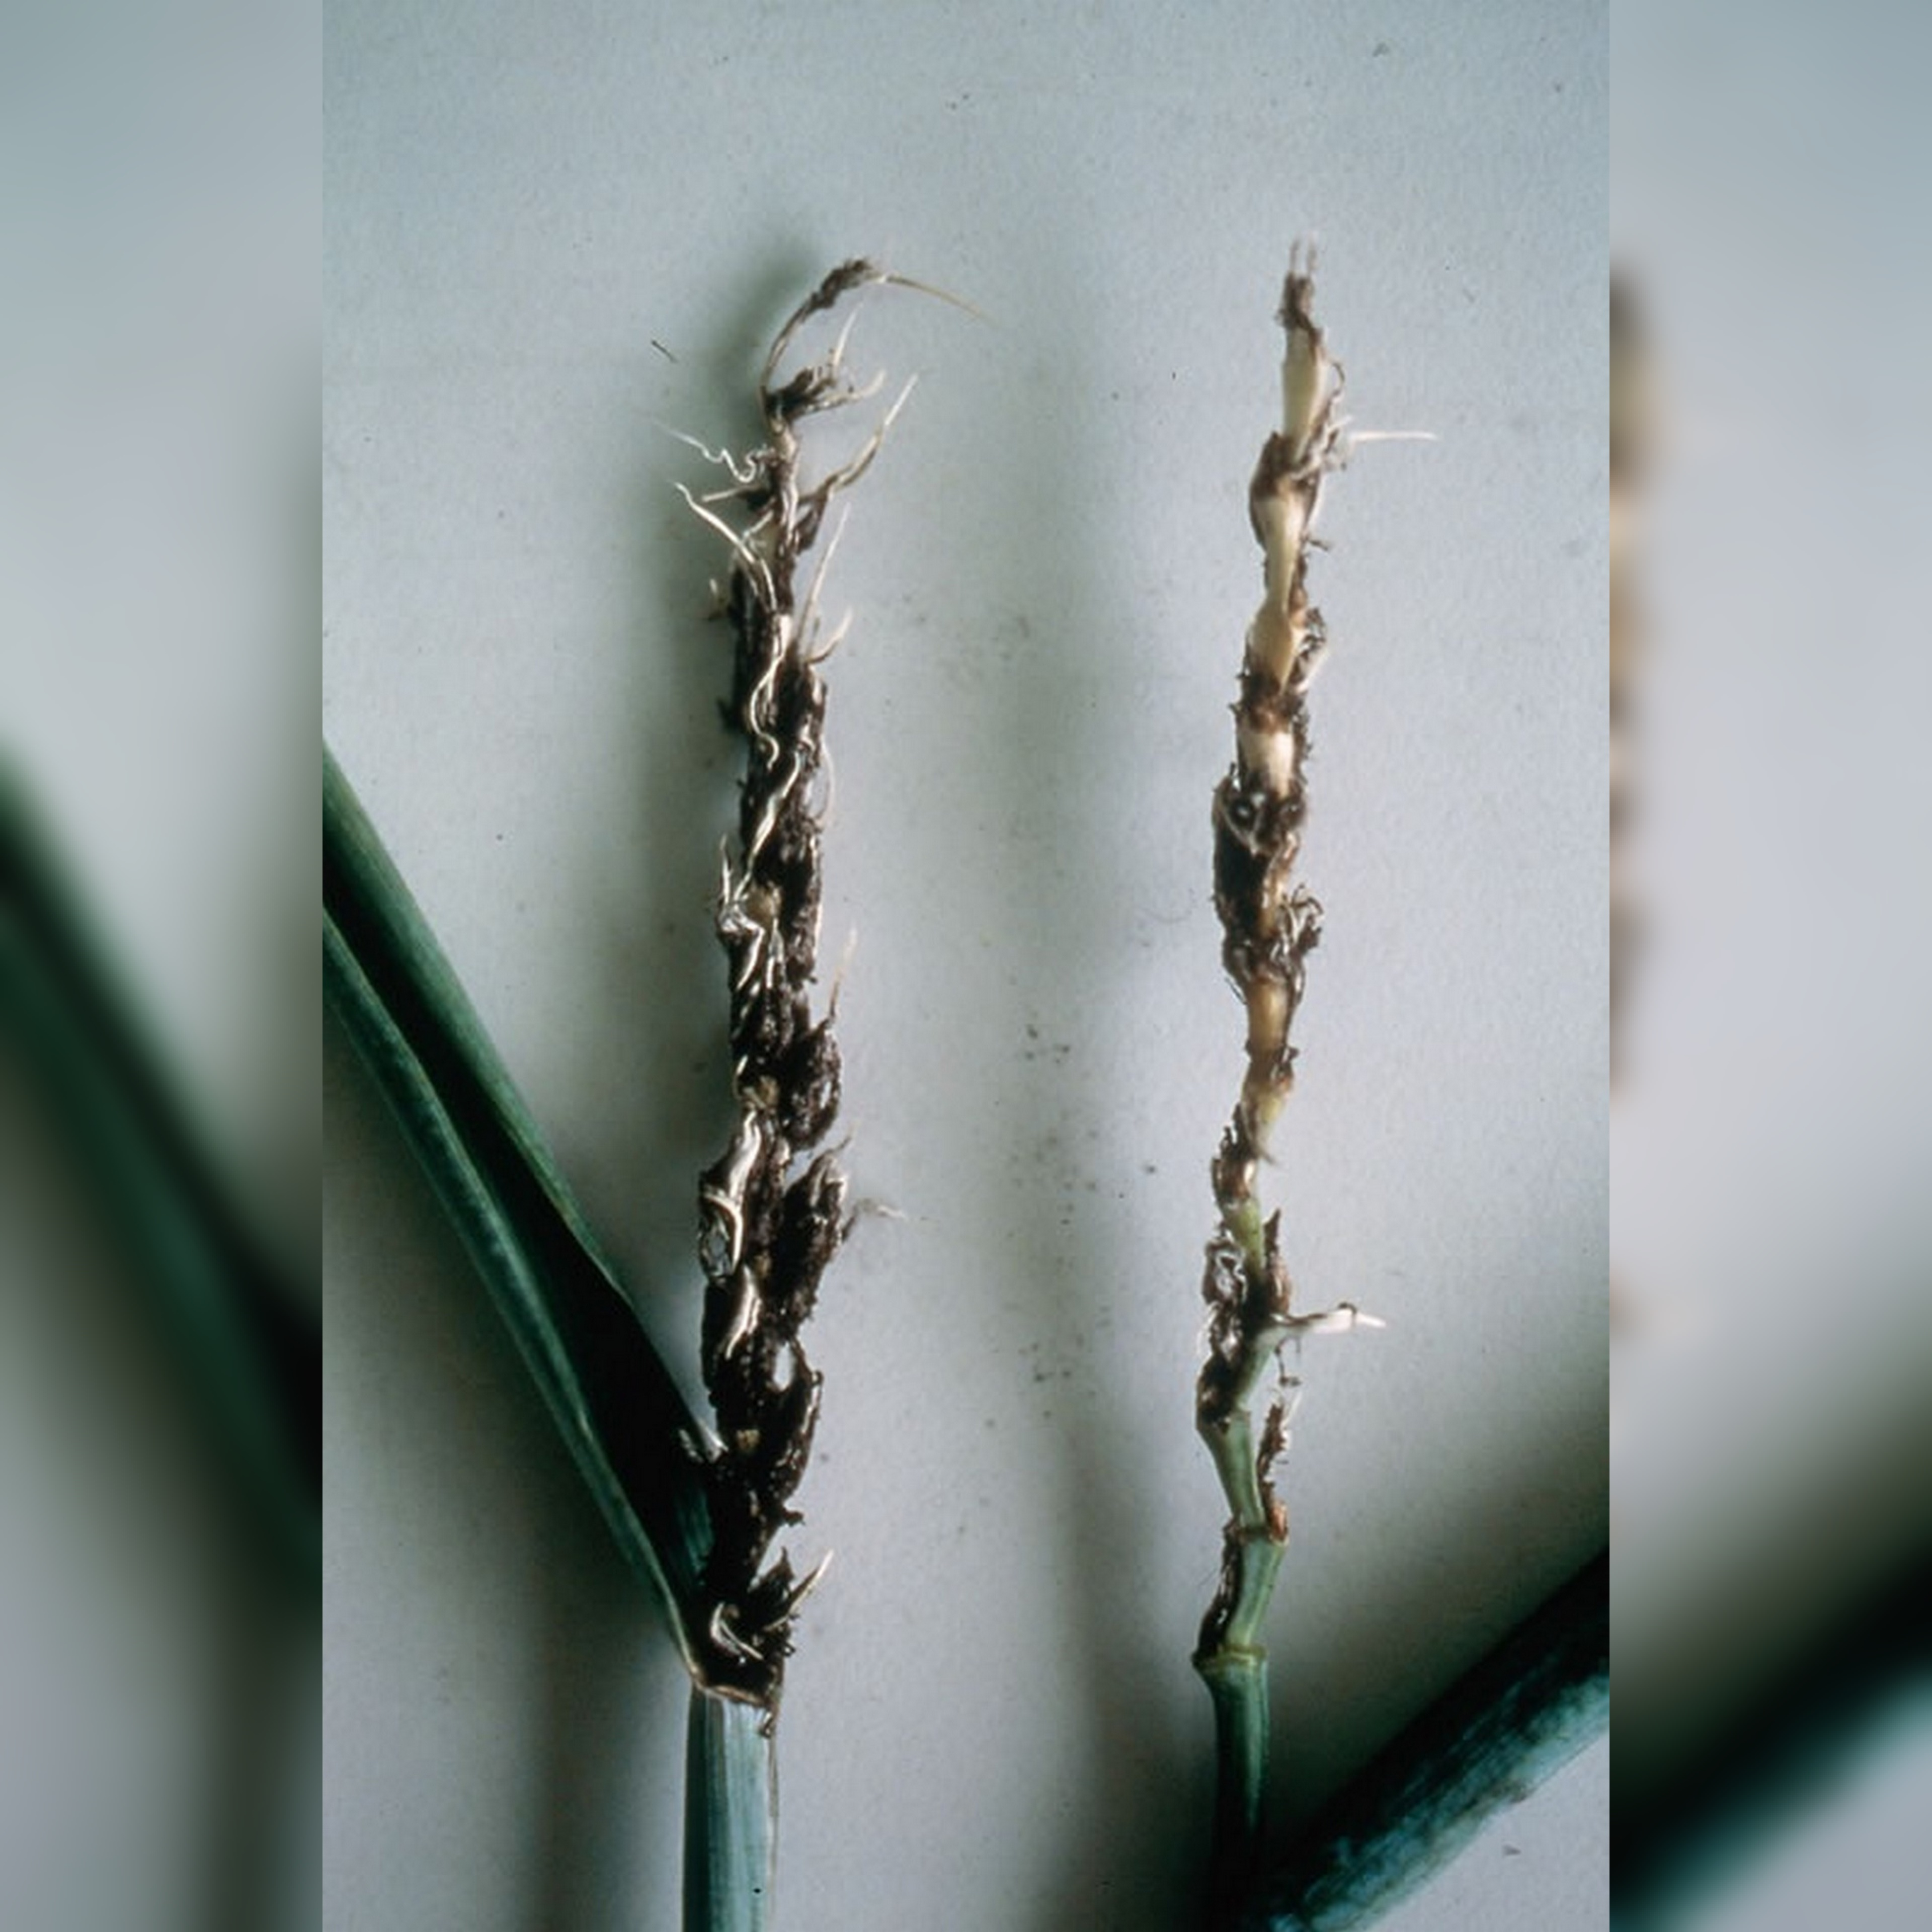Wheat Loose Smut: (635, 211, 927, 1635)
